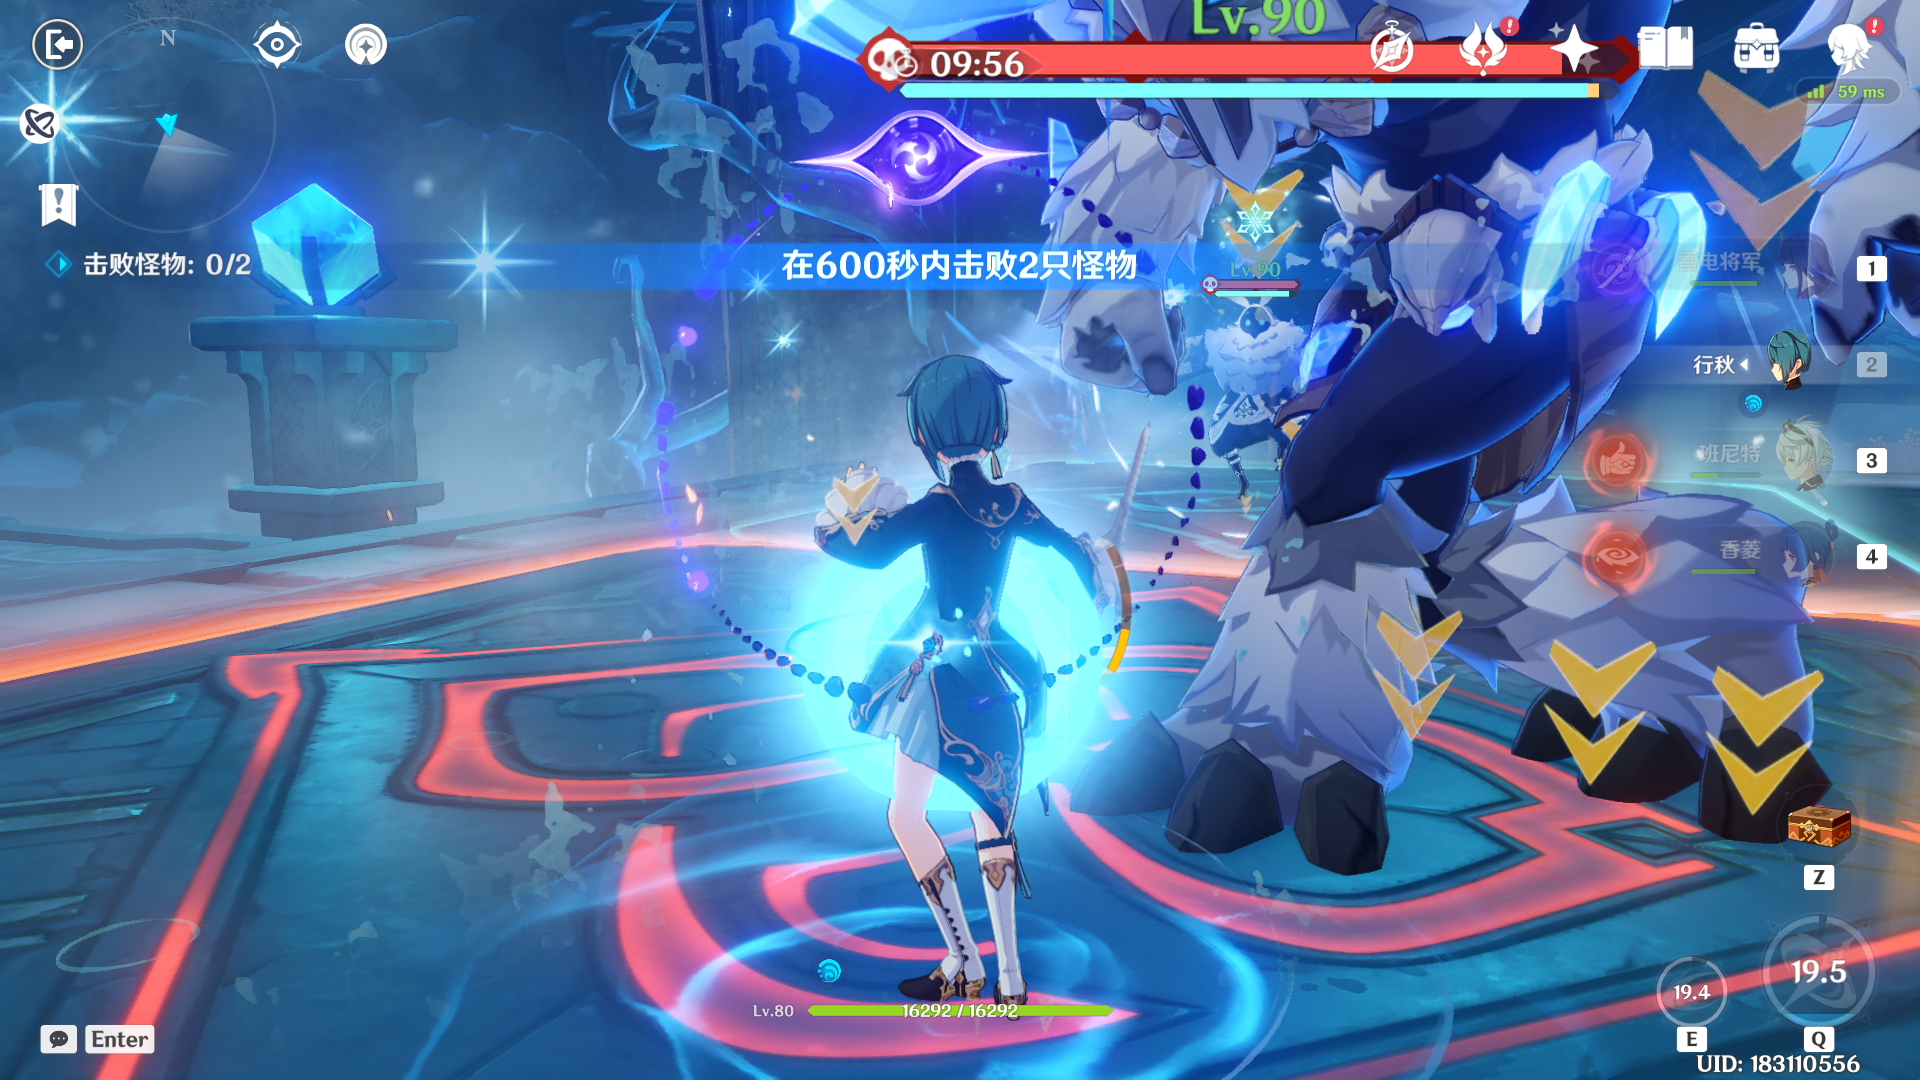bosshili: (969, 1, 1920, 855)
caster: (1174, 266, 1375, 527)
character: (758, 330, 1185, 1048)
